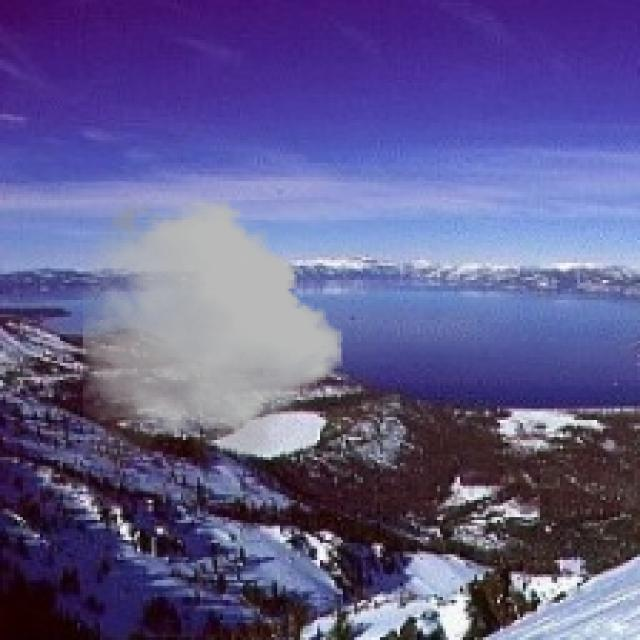smoke: (83, 194, 343, 466)
